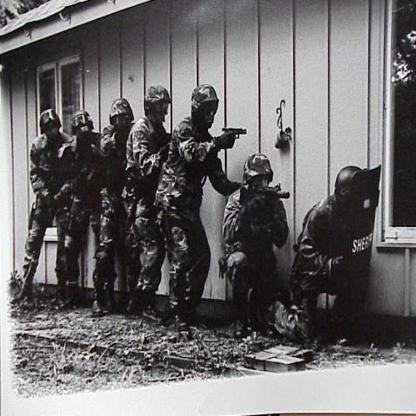face: (200, 101, 218, 128), (341, 184, 358, 211), (253, 172, 269, 197), (154, 101, 169, 125), (117, 110, 131, 131), (46, 121, 59, 140), (78, 122, 91, 141)
